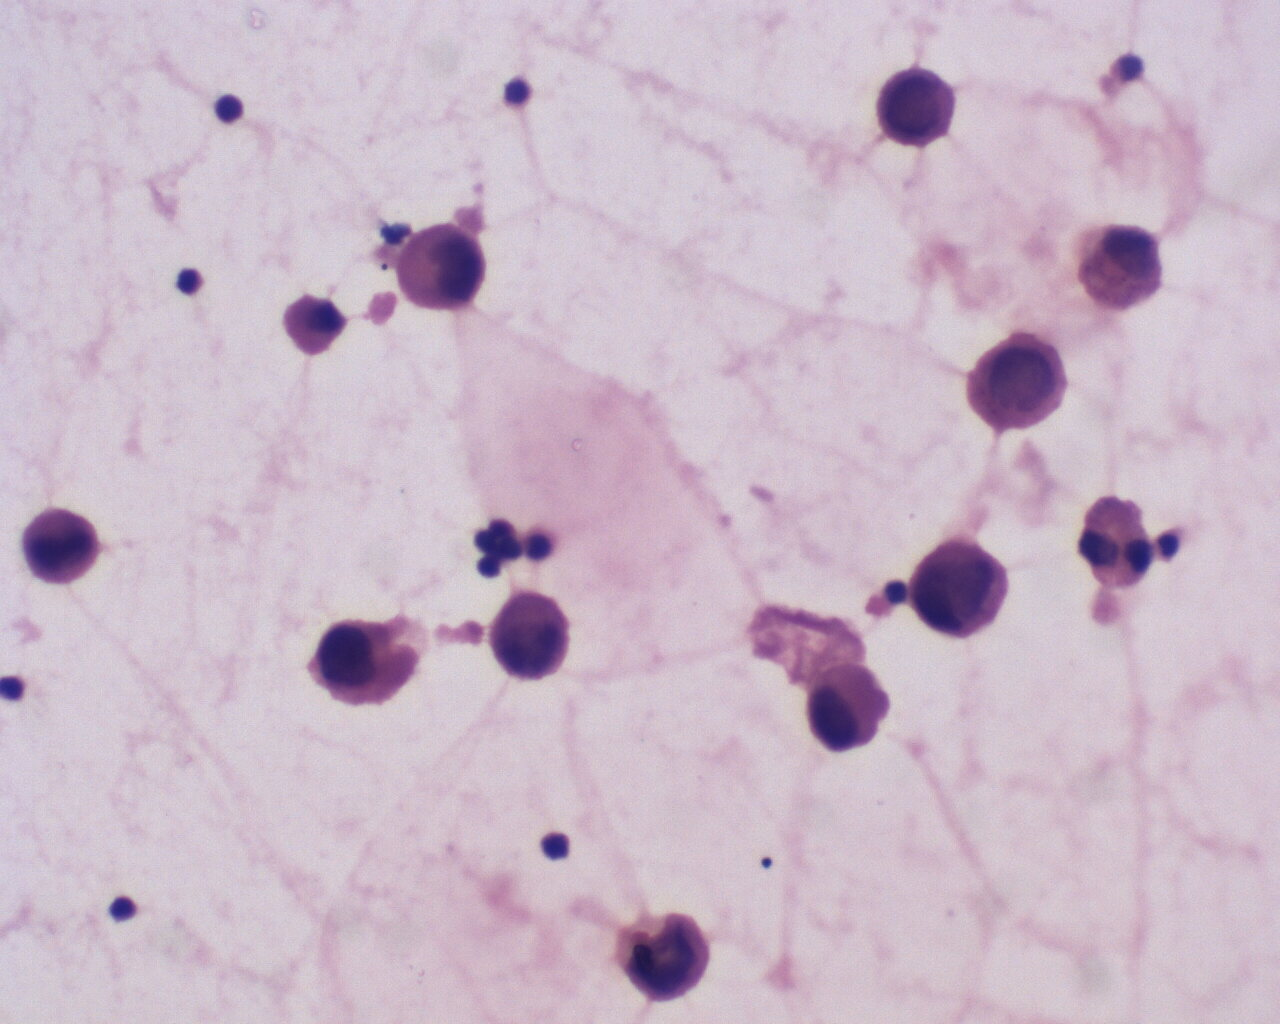ab: (908, 534, 1009, 639), (965, 325, 1064, 433), (393, 219, 493, 315), (804, 662, 894, 757), (487, 590, 574, 680), (20, 504, 100, 592), (876, 62, 956, 149)
lymph: (531, 824, 580, 872), (107, 885, 145, 930), (209, 86, 250, 127)
